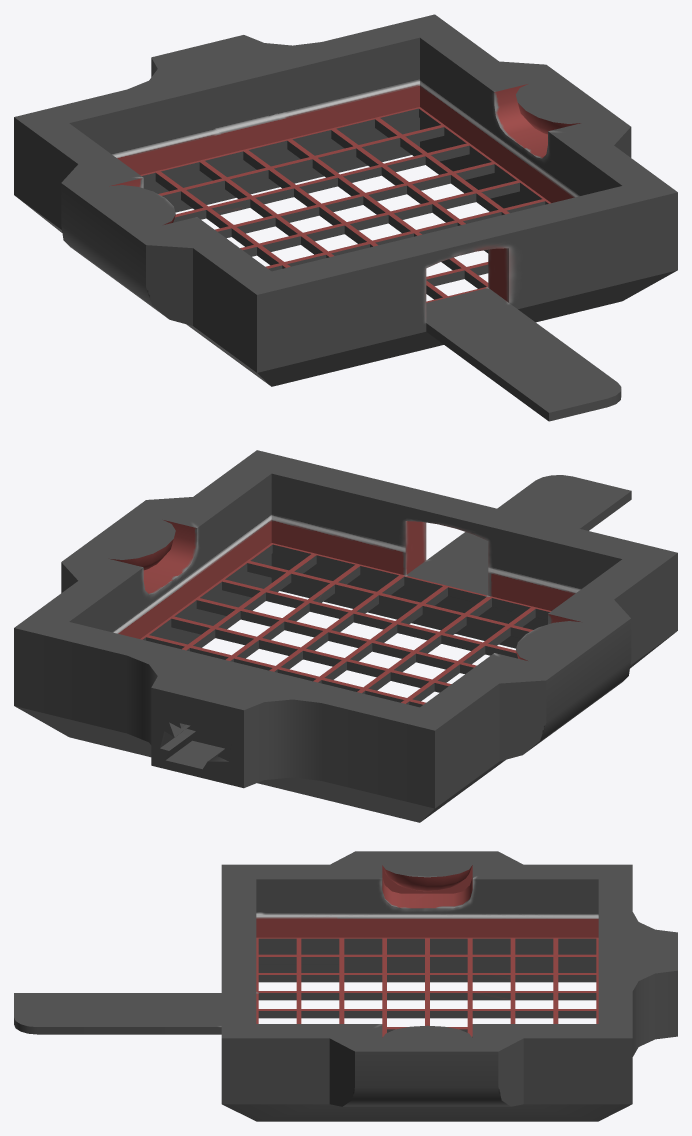
Rendered from arena 1.fbx.
The picture shows the model from 3 angles, top to bottom: view 1: azimuth 30°, elevation 25°; view 2: azimuth 150°, elevation 25°; view 3: azimuth 270°, elevation 25°; orthographic projection. The views are drawn at different scales.
Visible parts, largest first — view 1: Arena, DestructibleWall; view 2: Arena; view 3: Arena.
Part boxes in pixels (<box>): Arena: <box>14,14,677,421</box>; DestructibleWall: <box>211,104,281,150</box>; Arena: <box>14,450,677,822</box>; Arena: <box>14,851,677,1121</box>.
Bounding box in the file's own units: 582 × 132 × 817.
